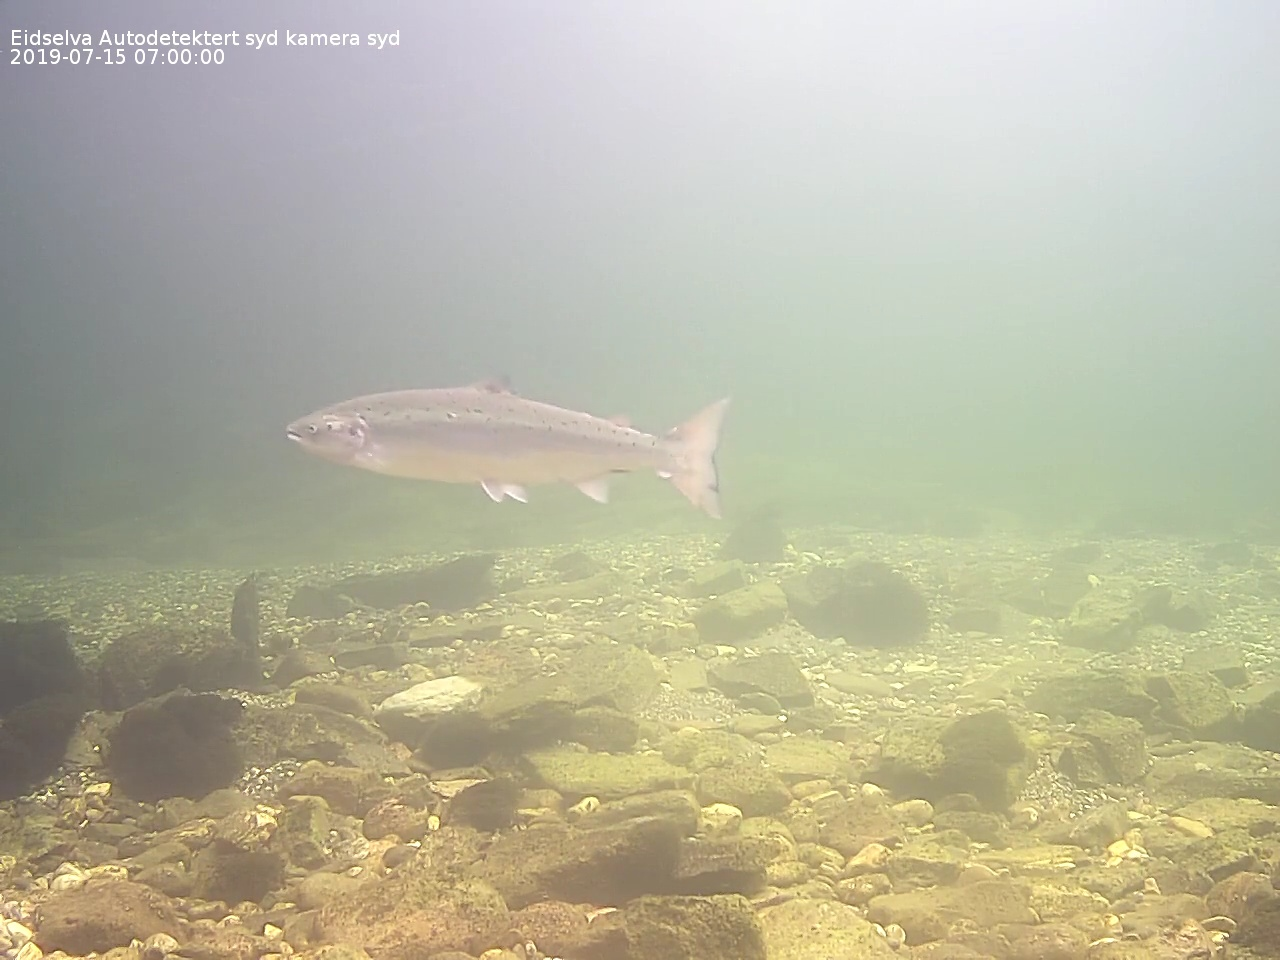salmon: (281, 367, 738, 529)
